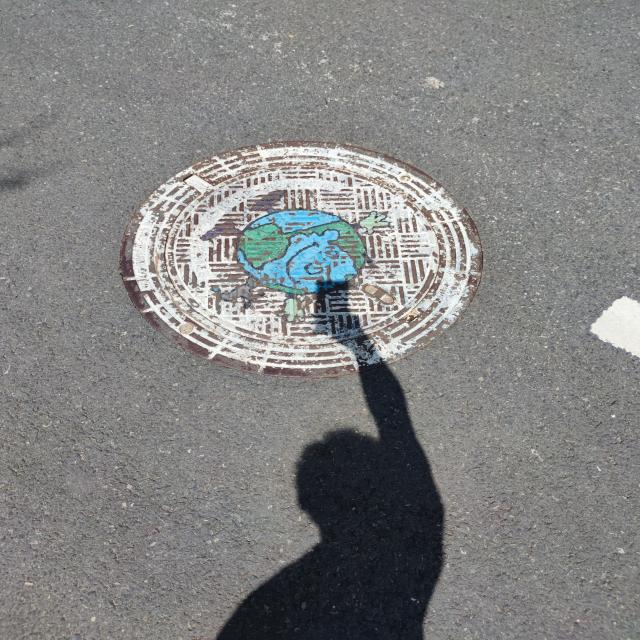Good: (110, 140, 492, 382)
